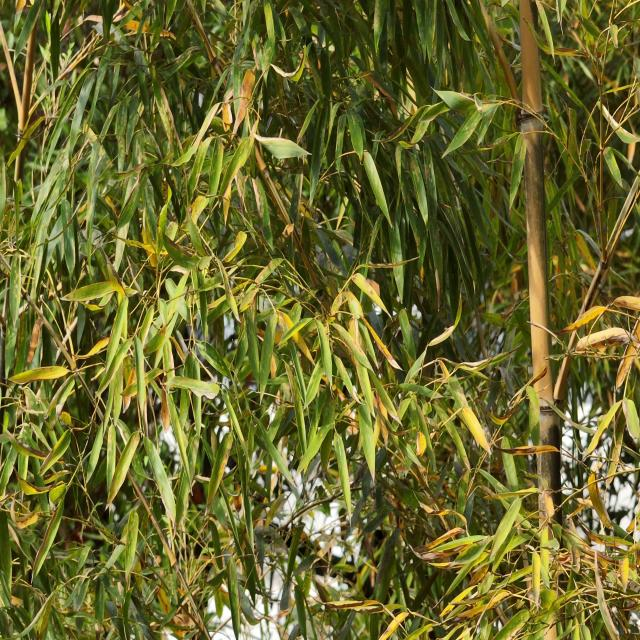Bamboo-shoots: (518, 0, 566, 640)
